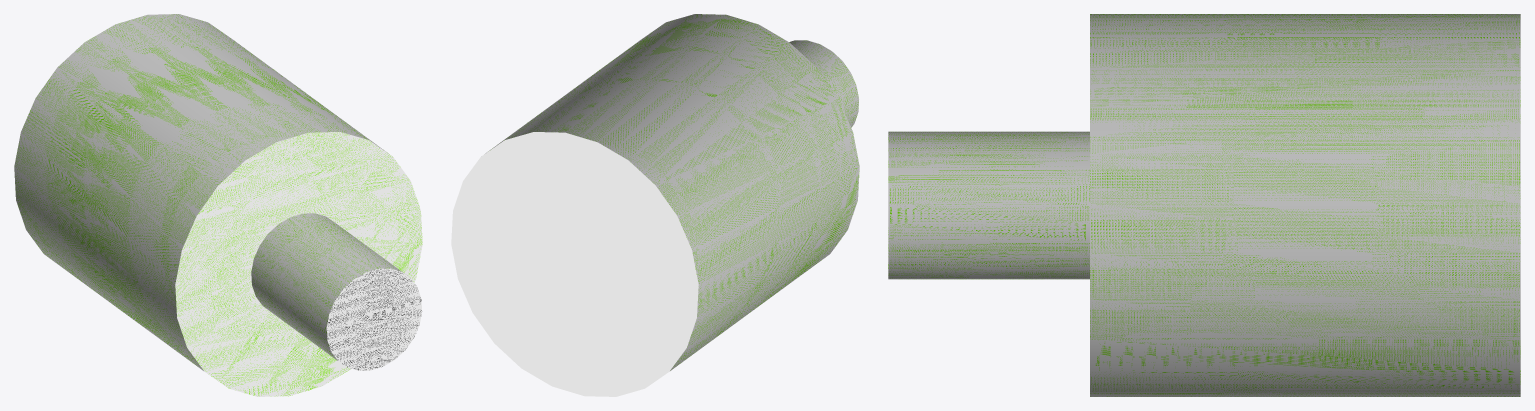
The model's file is model_scale.obj.
3 renders of one model, left to right at view 1: azimuth 30°, elevation 25°; view 2: azimuth 150°, elevation 25°; view 3: azimuth 270°, elevation 25°, orthographic. The views are drawn at different scales.
Parts seen in each view (by area): view 1: mesh1_mesh1-geometry; view 2: mesh1_mesh1-geometry; view 3: mesh1_mesh1-geometry.
Boxes of the visible parts, x1,y1,x2,y2 form: mesh1_mesh1-geometry: (14, 14, 422, 396); mesh1_mesh1-geometry: (451, 14, 859, 396); mesh1_mesh1-geometry: (888, 14, 1520, 396).
Bounding box in the file's own units: 0.1284 × 0.1284 × 0.2125.
